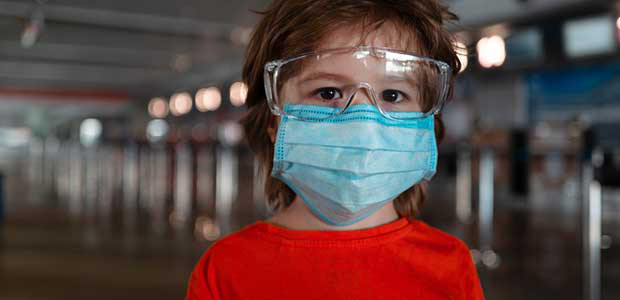Goggles: (260, 43, 453, 123)
with_mask: (275, 74, 434, 224)
